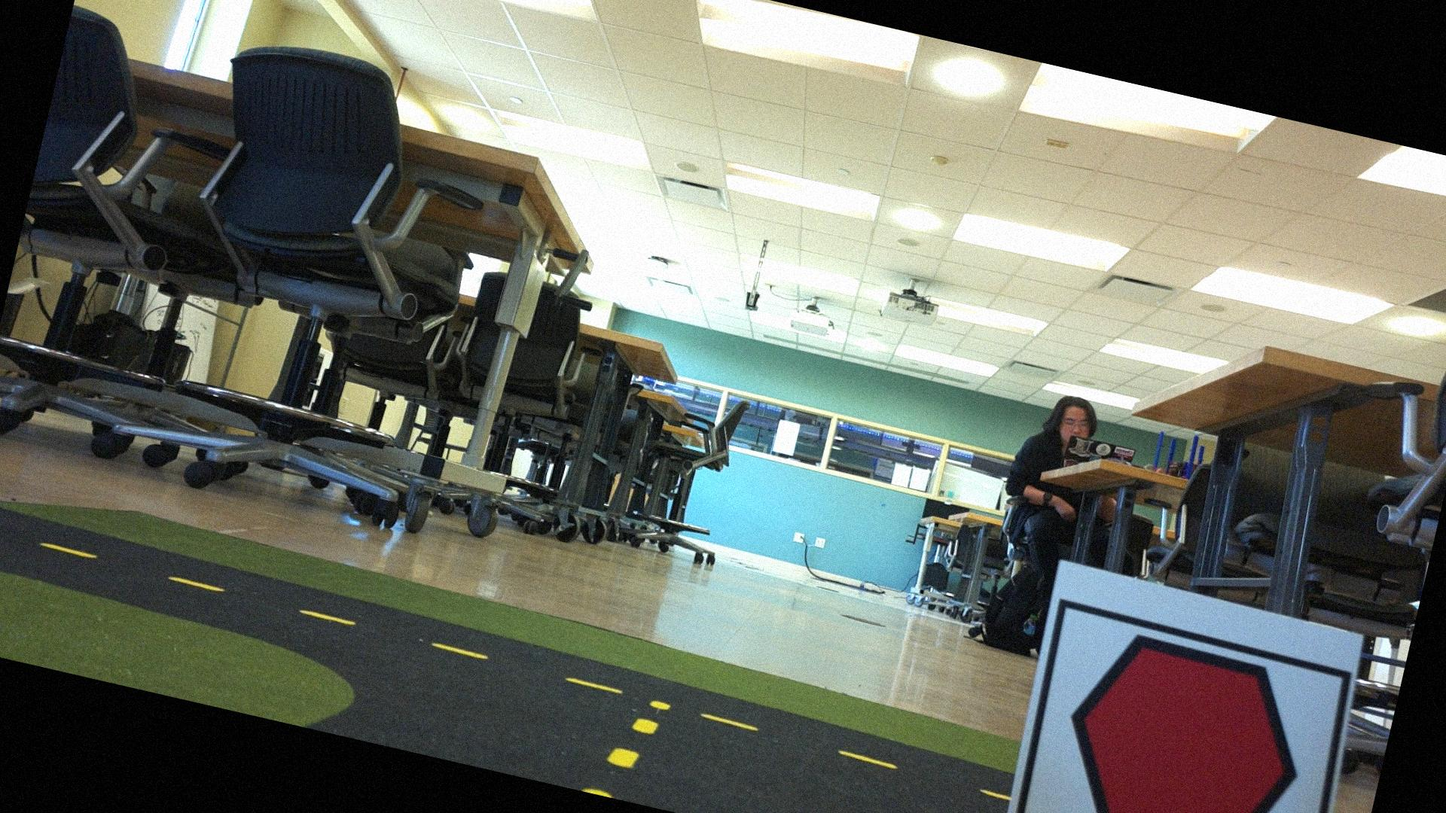stop: (1025, 611, 1341, 812)
yellowline: (607, 691, 668, 781)
